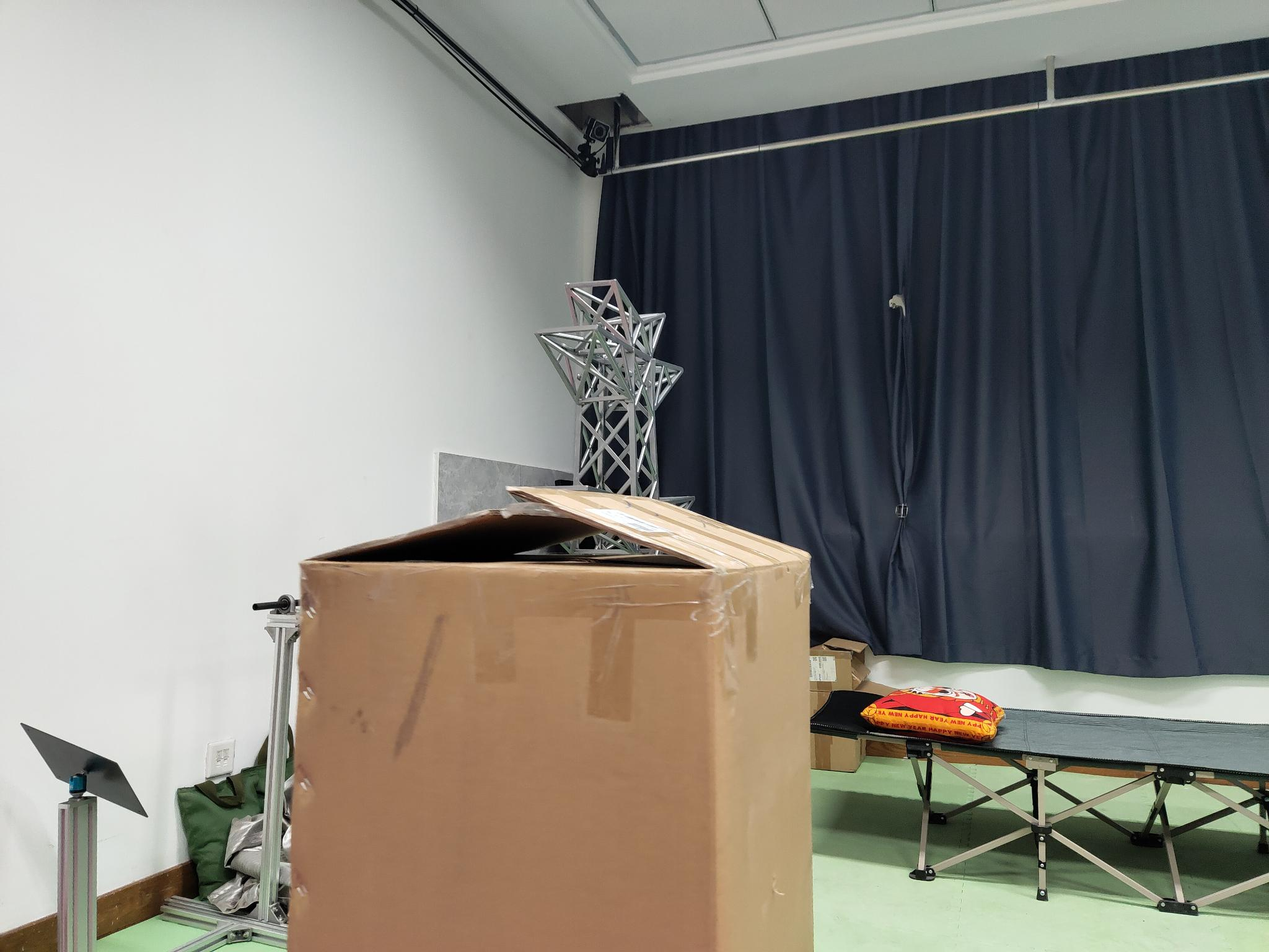tower: (532, 279, 696, 493)
